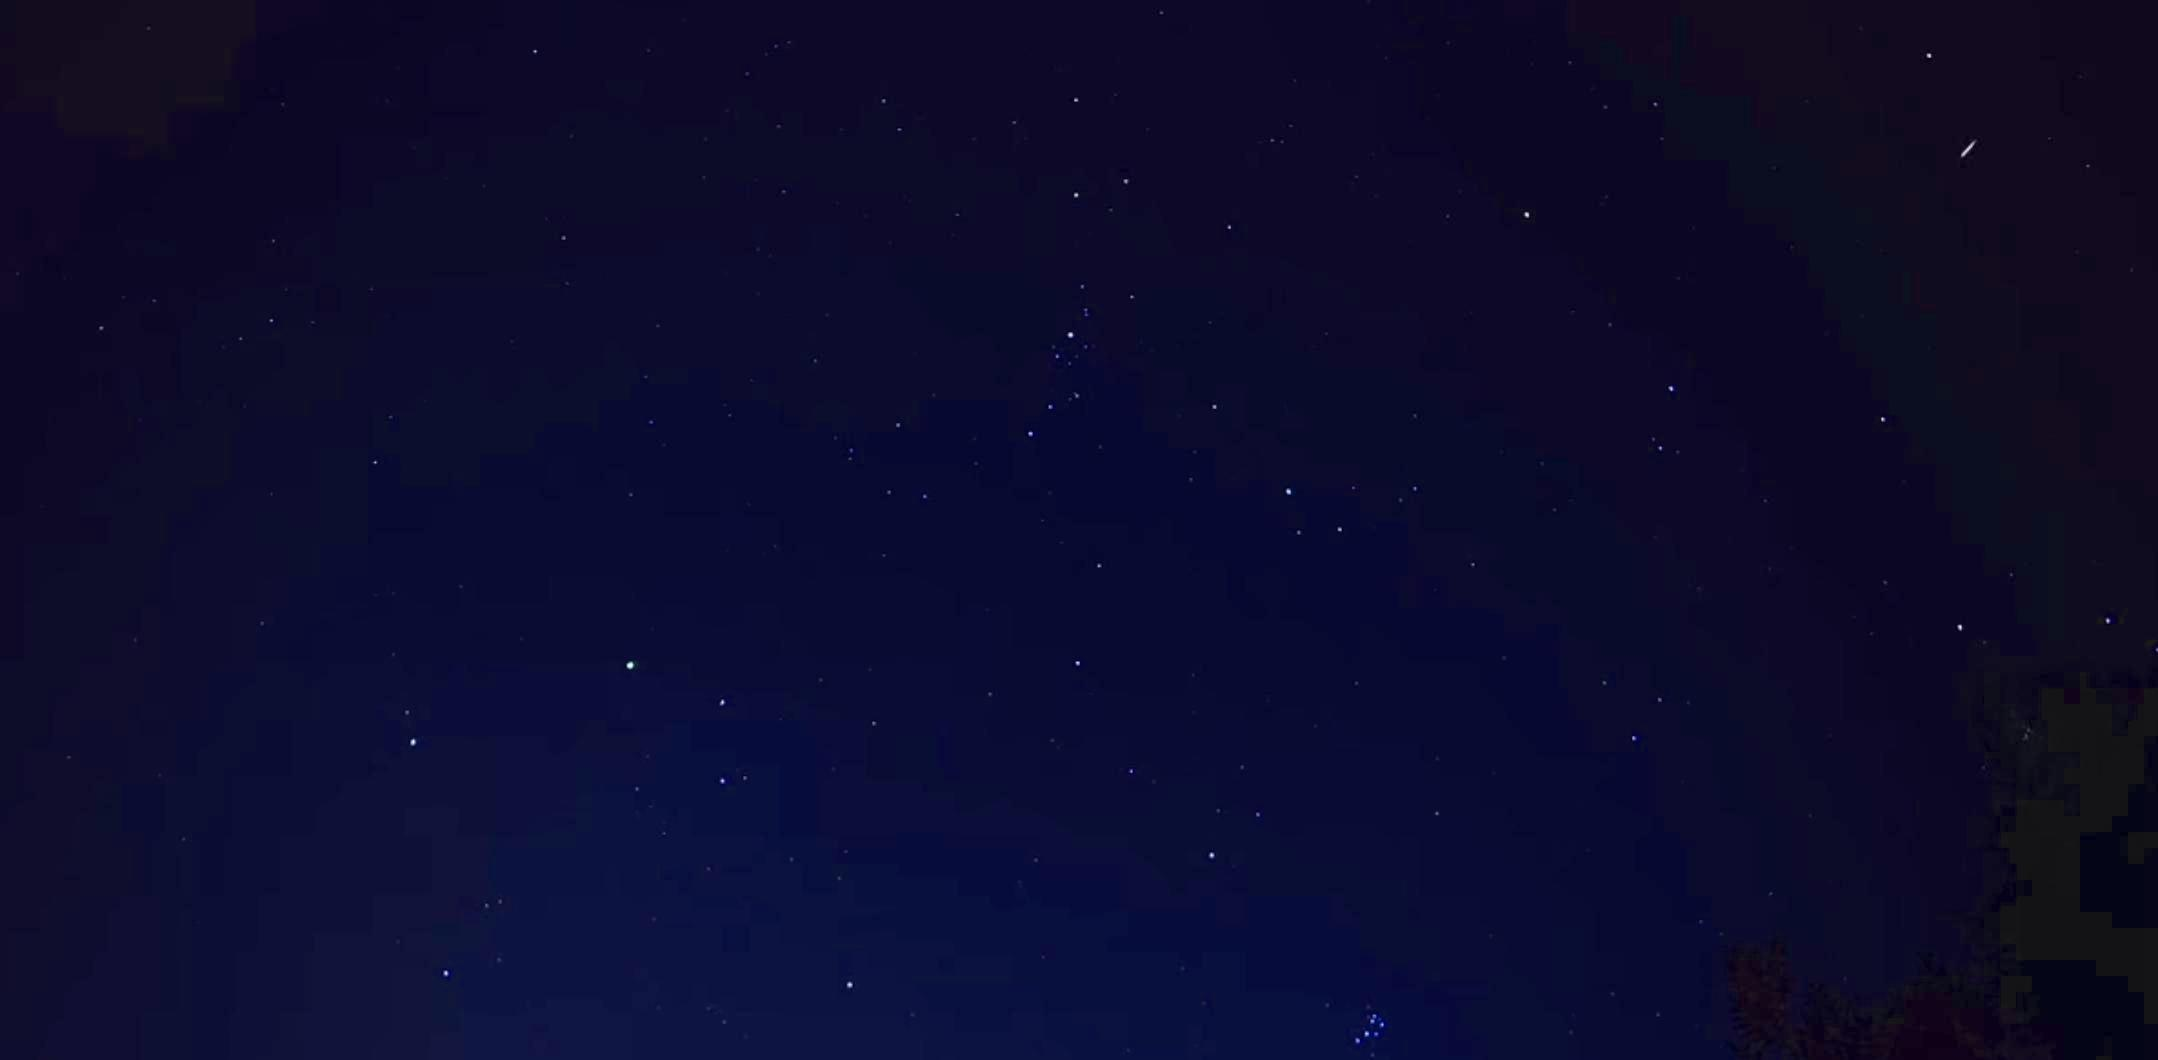meteorite: (1930, 128, 2009, 169)
